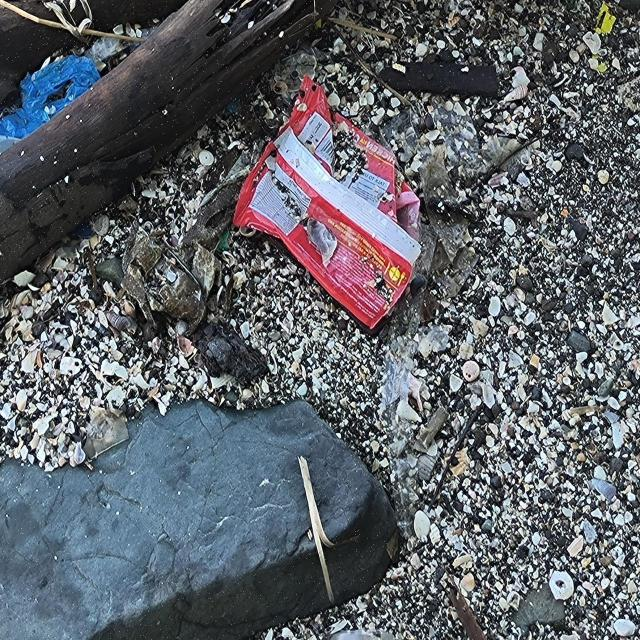plastic_waste: (233, 75, 425, 332)
